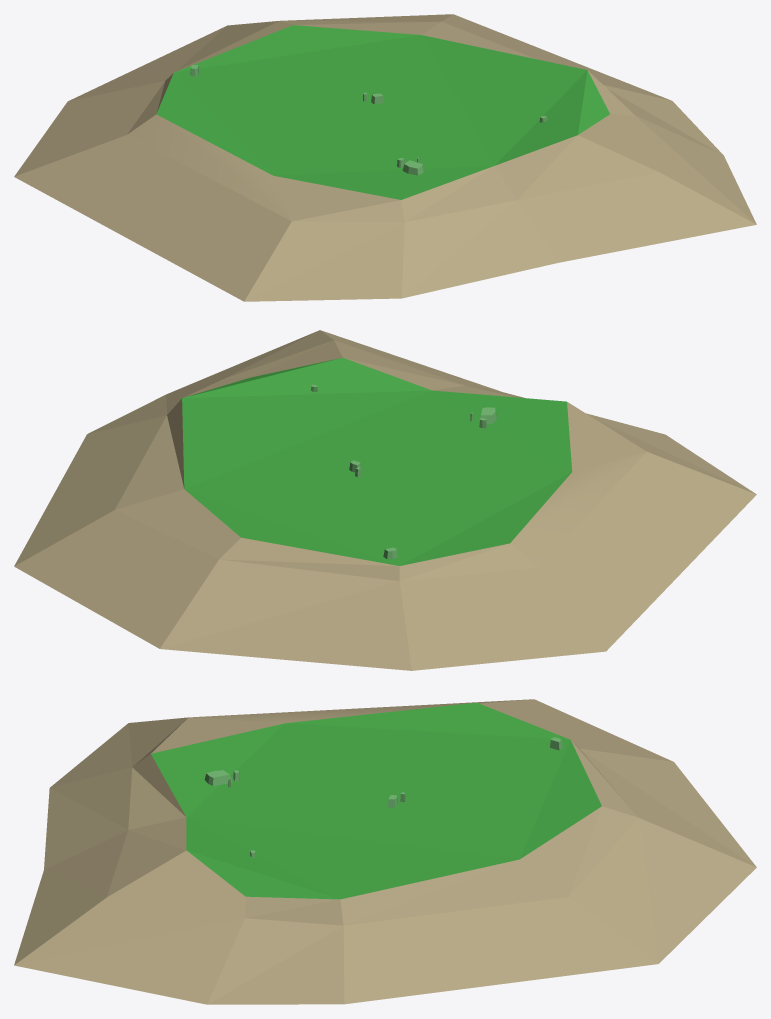
Rendered from Ground_08_B.FBX.
3 views of the same model, one above another, from view 1: azimuth 30°, elevation 25°; view 2: azimuth 150°, elevation 25°; view 3: azimuth 270°, elevation 25° (orthographic). The views are drawn at different scales.
Parts seen in each view (by area): view 1: Ground_08_B; view 2: Ground_08_B; view 3: Ground_08_B.
Part boxes in pixels (x1,y1,x2,y2): Ground_08_B: (14, 14, 756, 301); Ground_08_B: (14, 330, 756, 670); Ground_08_B: (14, 699, 756, 1004).
Size of the model in its own units: 6.68 by 0.7287 by 6.87.
